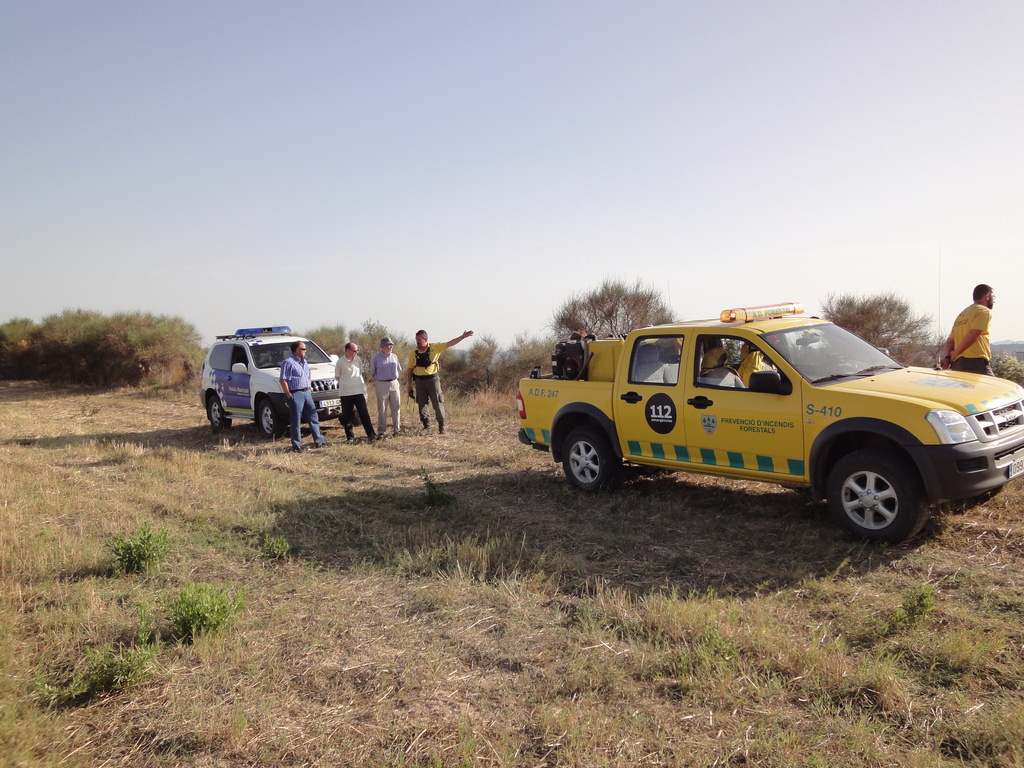mobil: (519, 309, 1024, 552)
